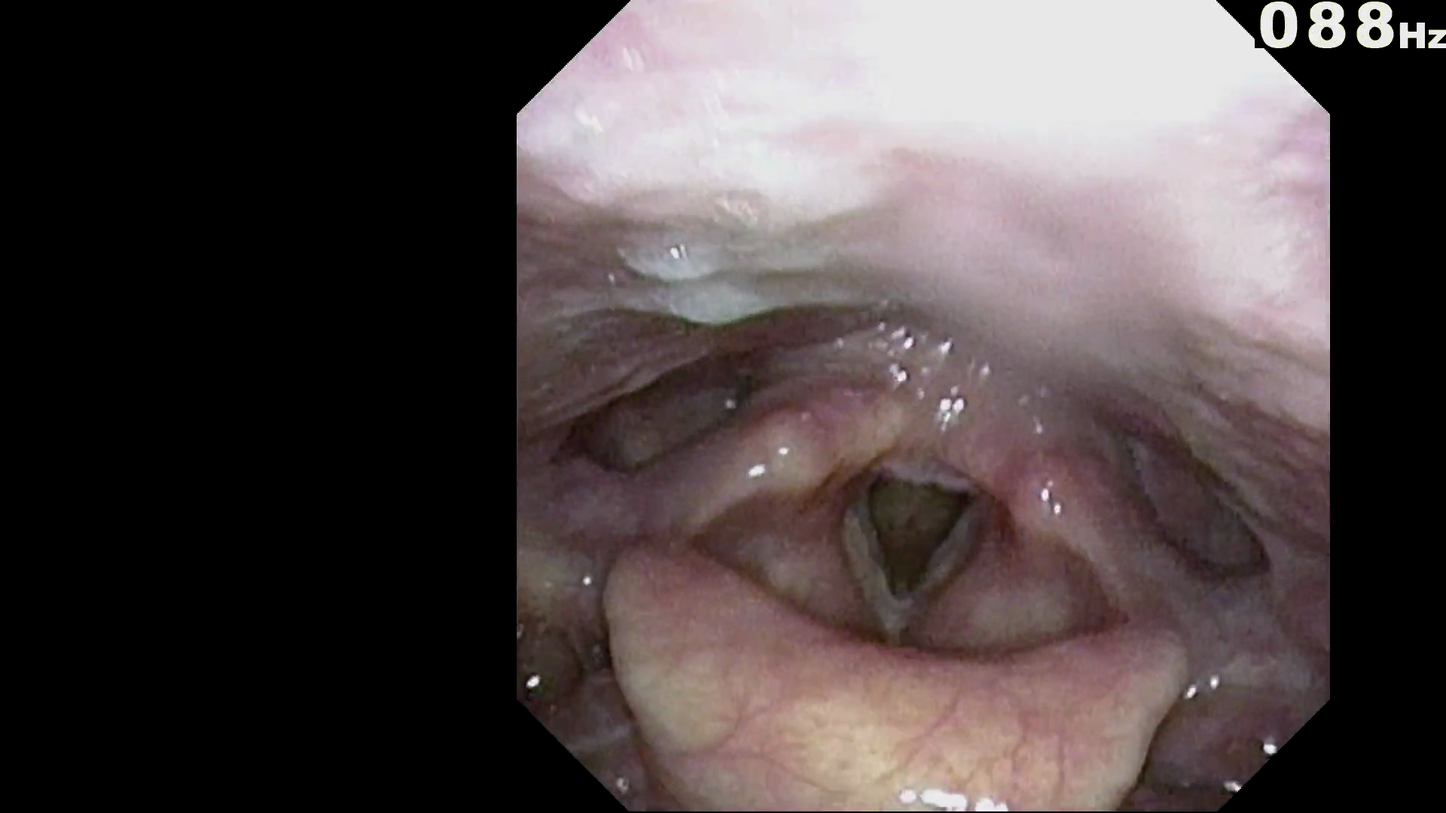epiglottis: (627, 626, 1186, 795)
trachea: (854, 459, 974, 628)
